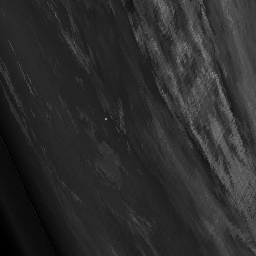Target: (103, 117, 109, 122)
